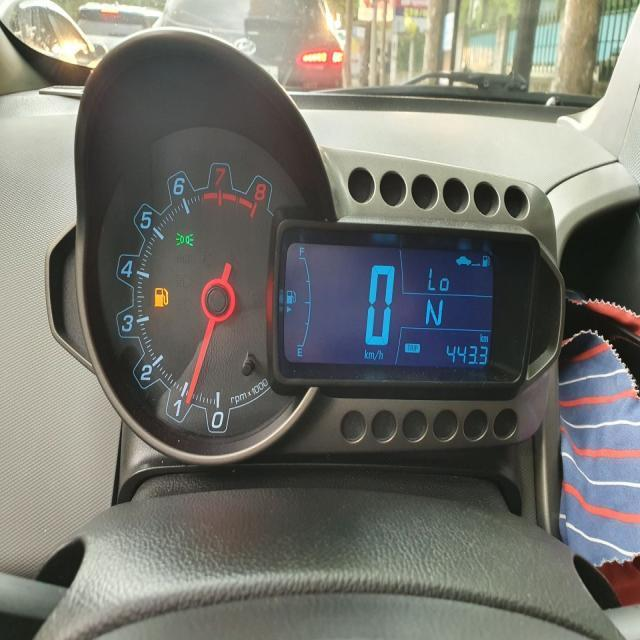Low fuel level: (153, 285, 168, 307)
SideLamp: (174, 230, 194, 248)
